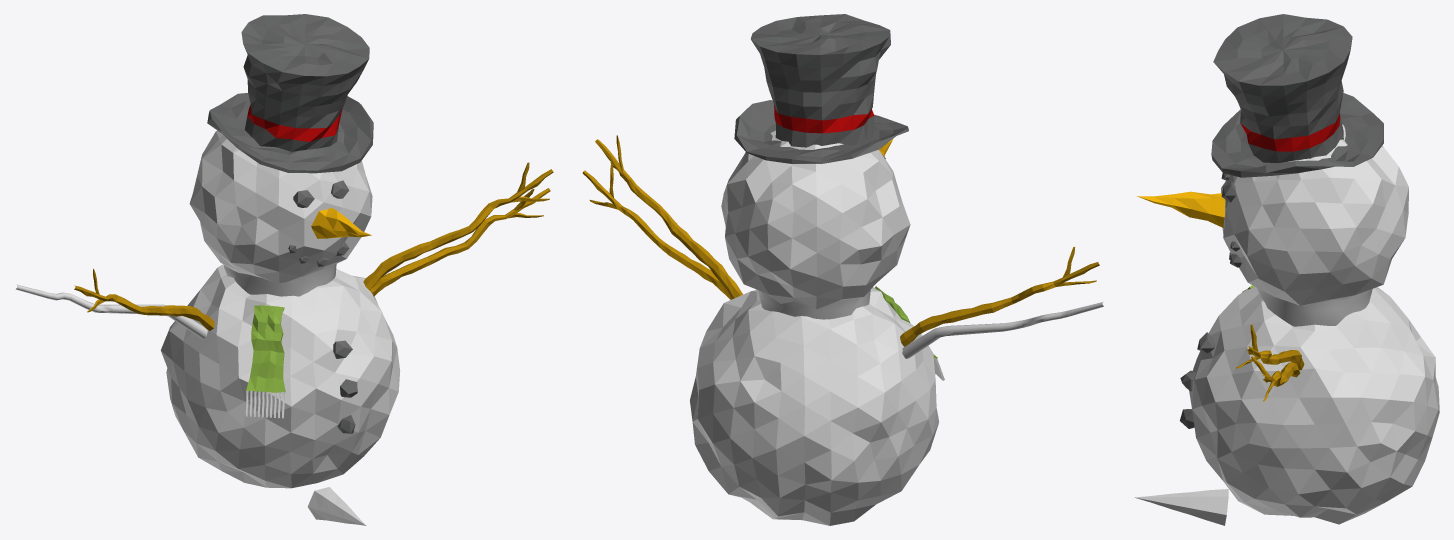
Rendered from bN280ReeZvq.glb.
3 views of the same model, side by side, from view 1: azimuth 30°, elevation 25°; view 2: azimuth 150°, elevation 25°; view 3: azimuth 270°, elevation 25° (orthographic). The views are drawn at different scales.
Visible parts, largest first — view 1: head_sphere.1, Hat.1, Spline_sweep, Cube_0, scarf_end, Cone; view 2: head_sphere.1, Hat.1, Spline_sweep, Cube_0; view 3: head_sphere.1, Hat.1, Cube_0, Cone, Spline_sweep.
Part boxes in pixels (bbox=[...]): head_sphere.1: bbox=[160, 130, 400, 525]; Hat.1: bbox=[207, 14, 373, 433]; Spline_sweep: bbox=[74, 162, 553, 330]; Cube_0: bbox=[15, 264, 336, 418]; scarf_end: bbox=[246, 305, 285, 392]; Cone: bbox=[311, 207, 371, 238]; head_sphere.1: bbox=[690, 130, 938, 525]; Hat.1: bbox=[734, 14, 908, 163]; Spline_sweep: bbox=[582, 135, 1099, 346]; Cube_0: bbox=[756, 289, 1103, 380]; head_sphere.1: bbox=[1134, 124, 1439, 525]; Hat.1: bbox=[1180, 14, 1383, 428]; Cube_0: bbox=[1256, 287, 1372, 326]; Cone: bbox=[1137, 191, 1225, 227]; Spline_sweep: bbox=[1236, 324, 1304, 401].
Bounding box in the file's own units: 1.18 × 1 × 0.5705.
